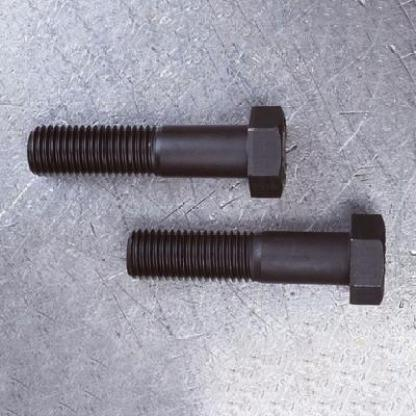FOD: (22, 98, 296, 198), (124, 212, 388, 308)
